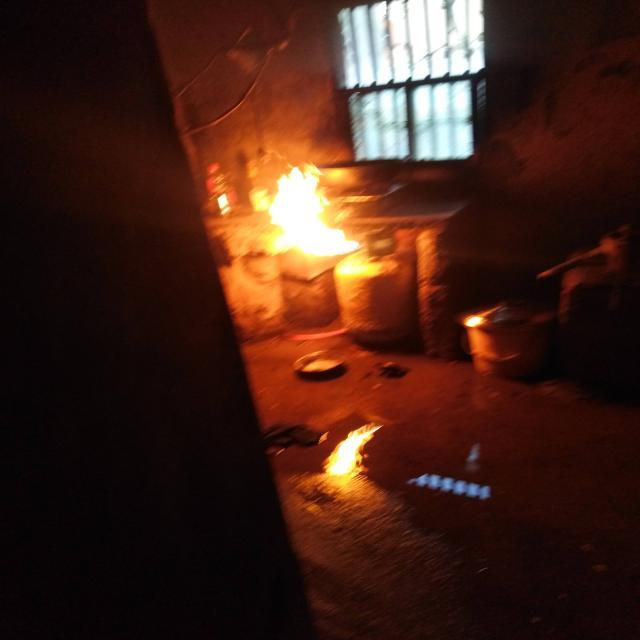Fire: (256, 162, 357, 258), (323, 422, 382, 480)
